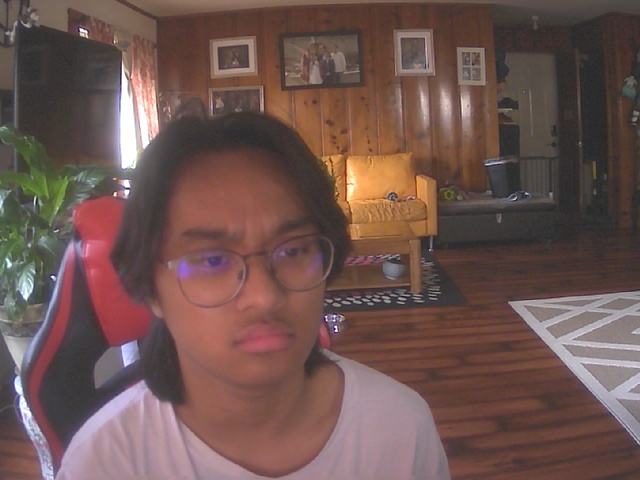anger: (140, 128, 343, 391)
